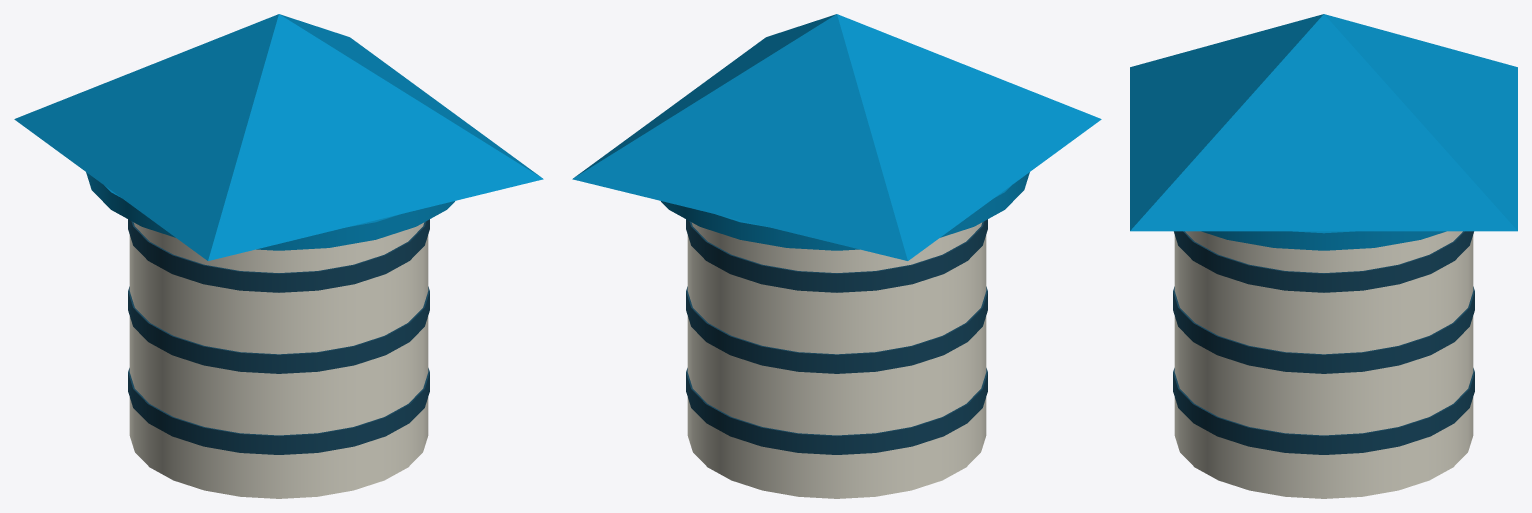
File: gerbang.glb
The picture shows the model from 3 angles, left to right: view 1: azimuth 30°, elevation 25°; view 2: azimuth 150°, elevation 25°; view 3: azimuth 270°, elevation 25°; orthographic projection.
Visible parts, largest first — view 1: Gerbang_blue, Gerbang_ivory, Gerbang_glass; view 2: Gerbang_blue, Gerbang_ivory, Gerbang_glass; view 3: Gerbang_blue, Gerbang_ivory, Gerbang_glass.
Boxes of the visible parts, x1,y1,x2,y2 form: Gerbang_blue: (14, 14, 543, 260); Gerbang_ivory: (129, 222, 428, 498); Gerbang_glass: (128, 219, 429, 454); Gerbang_blue: (572, 14, 1101, 260); Gerbang_ivory: (687, 222, 986, 498); Gerbang_glass: (686, 219, 987, 454); Gerbang_blue: (1130, 14, 1517, 250); Gerbang_ivory: (1174, 231, 1473, 498); Gerbang_glass: (1173, 231, 1474, 454).
Bounding box in the file's own units: 13 × 15.6 × 13.
